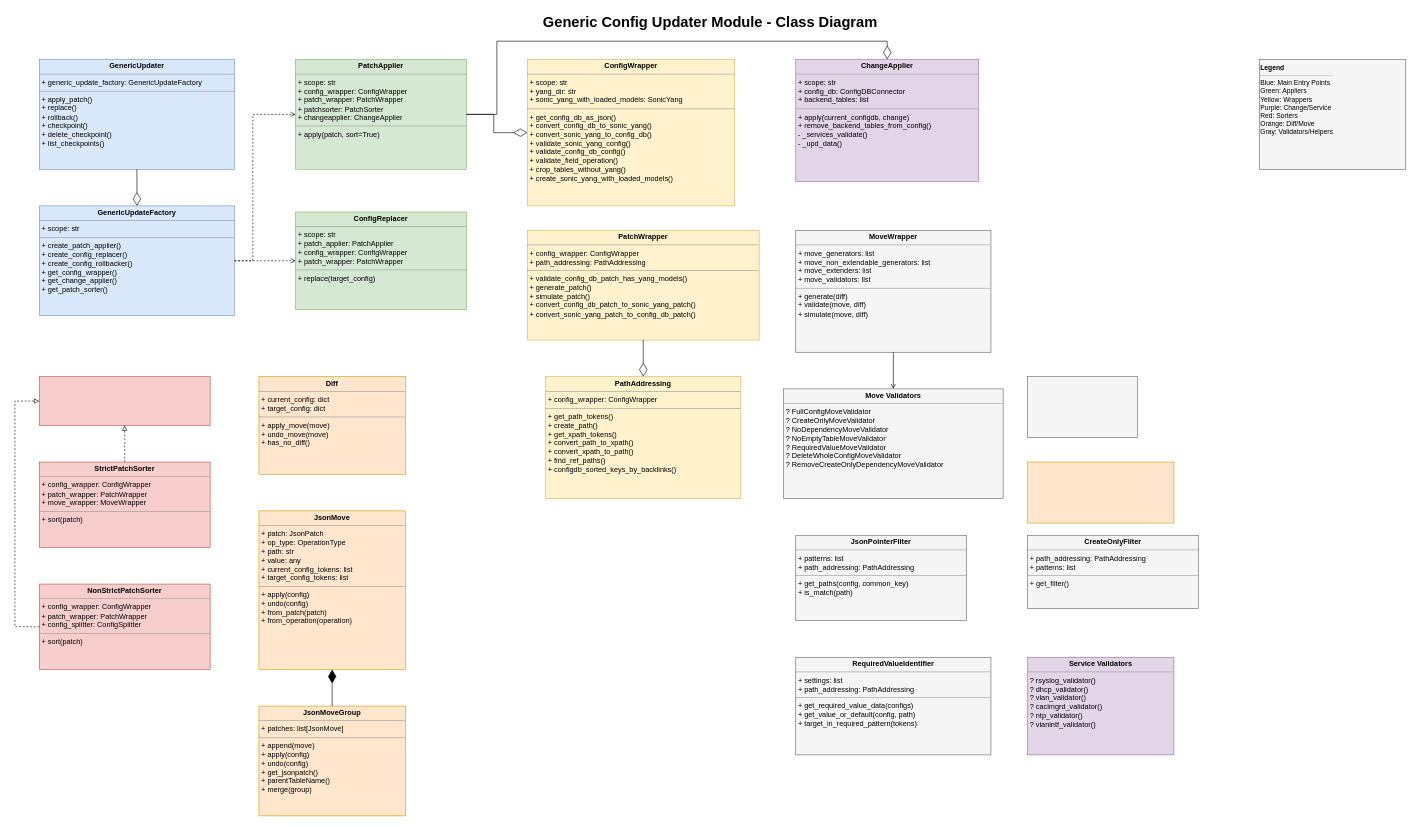
Image size: 1416x827. Some labels were removed from this diagram. Each missing label, with the centre of its shape:
<<enum>> OperationType ADD REMOVE REPLACE: (1082,407)
<<interface>> PatchSorter + sort(patch): list[JsonChange]: (124,400)
JsonChange + patch: JsonPatch + apply(config, in_place): (1100,492)
